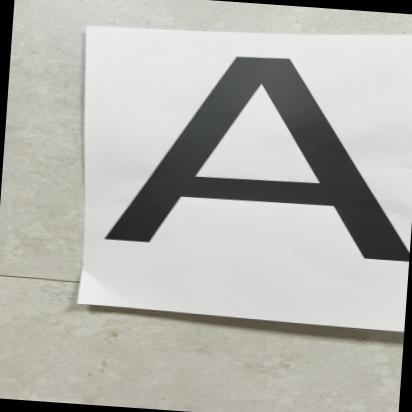seat: (99, 33, 412, 268)
